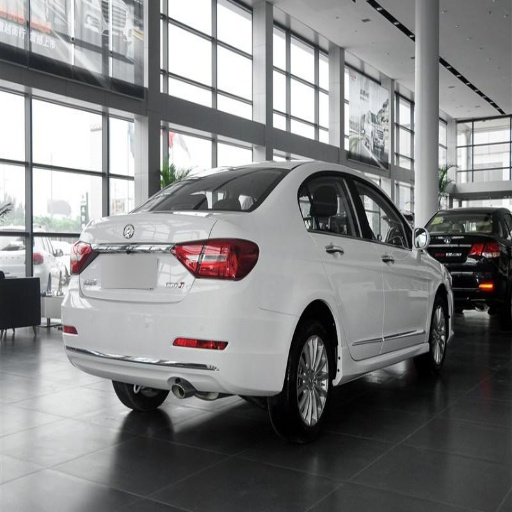back_bumper: (61, 277, 297, 393)
back_right_door: (309, 172, 382, 360)
tailgate: (82, 212, 225, 302)
